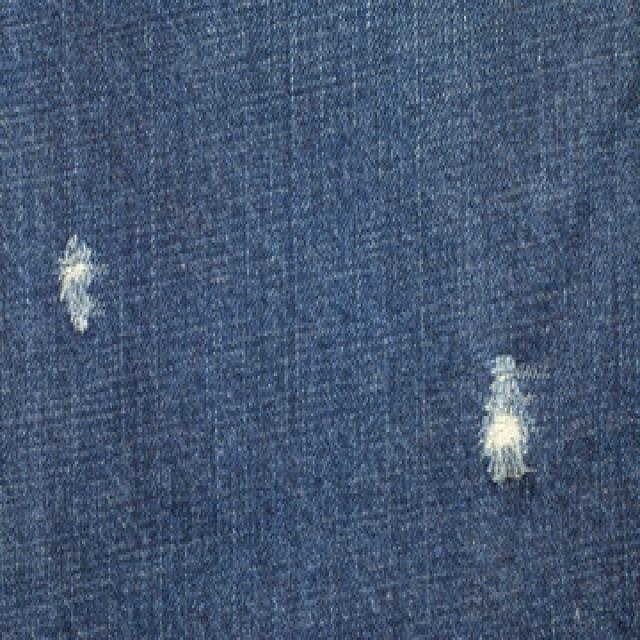Hole: (481, 356, 531, 484), (58, 235, 95, 334)
